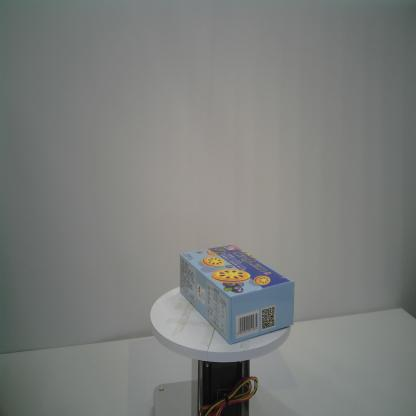Dessert: (178, 244, 296, 346)
